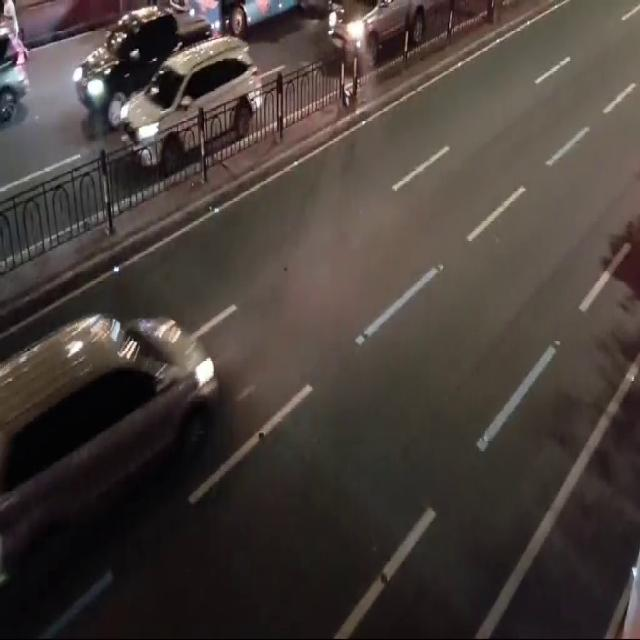car: (0, 294, 242, 603), (126, 36, 270, 158)
